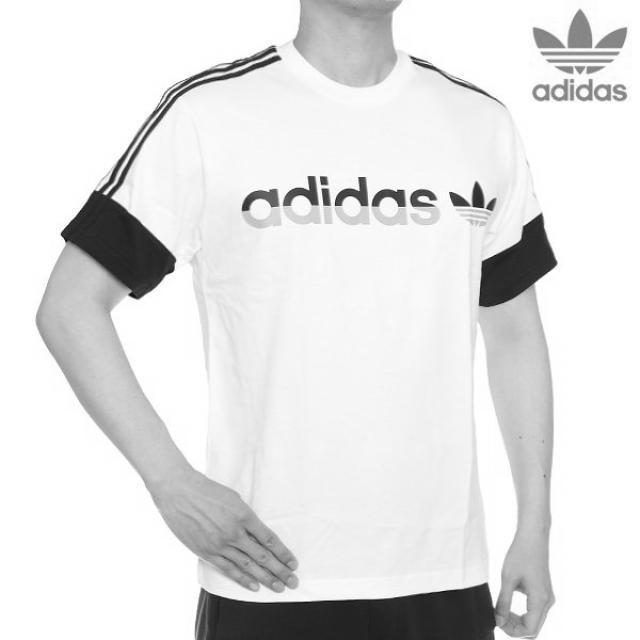Adidas: (530, 8, 630, 78), (448, 182, 504, 230)
